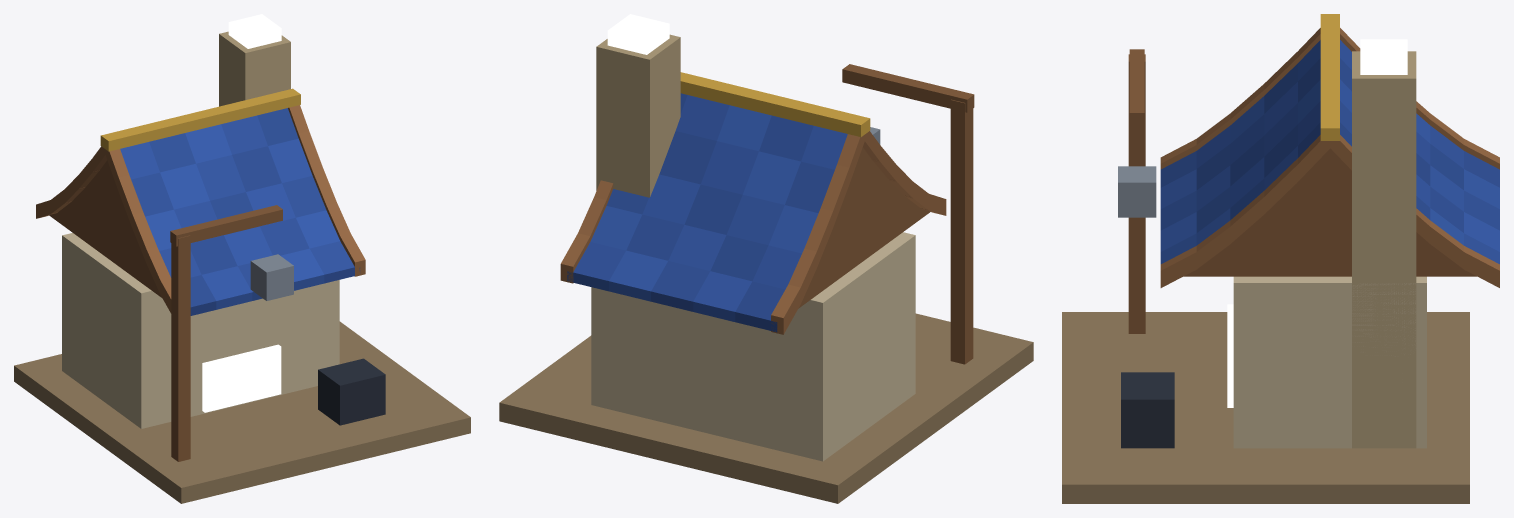
The model's file is workshop_t2.glb.
The picture shows the model from 3 angles, left to right: view 1: azimuth 30°, elevation 25°; view 2: azimuth 150°, elevation 25°; view 3: azimuth 270°, elevation 25°; orthographic projection. The views are drawn at different scales.
Visible parts, largest first — view 1: body, glow; view 2: body, glow; view 3: body, glow.
Boxes of the visible parts, left/top/right/bottom form: body: left=14, top=31, right=470, bottom=503; glow: left=202, top=14, right=281, bottom=412; body: left=499, top=34, right=1033, bottom=503; glow: left=607, top=14, right=669, bottom=54; body: left=1062, top=14, right=1499, bottom=503; glow: left=1227, top=39, right=1407, bottom=407.
Bounding box in the file's own units: 1.9 × 2.08 × 2.04.
